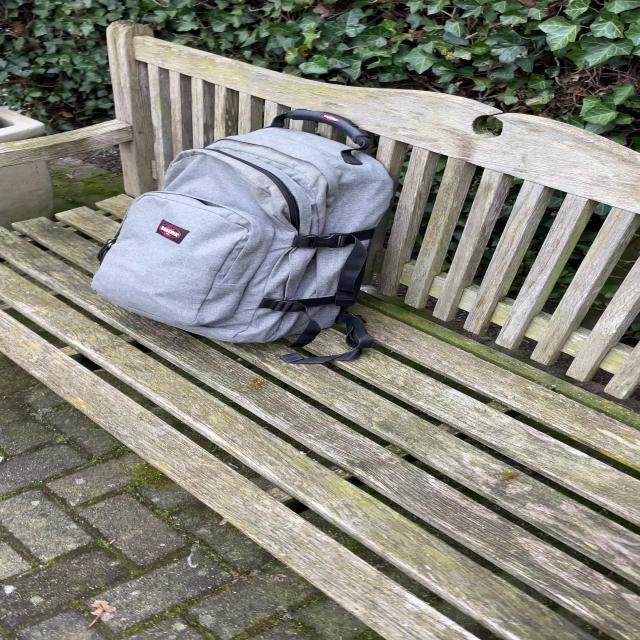backpack: (81, 106, 400, 348)
